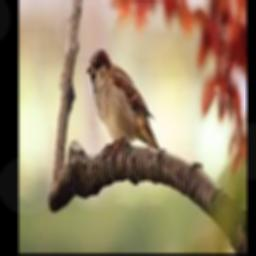Sparrow: (87, 49, 161, 150)
